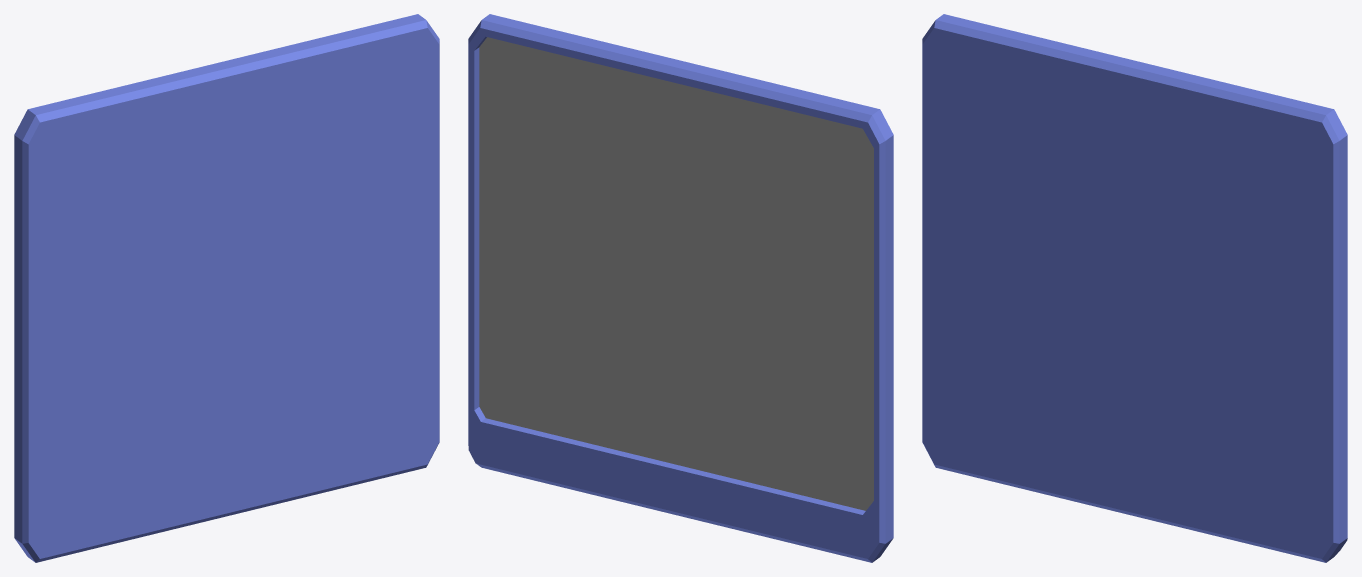
Rendered from Whiteboard_2.fbx.
3 renders of one model, left to right at view 1: azimuth 30°, elevation 25°; view 2: azimuth 150°, elevation 25°; view 3: azimuth 330°, elevation 25°, orthographic.
Visible parts, largest first — view 1: White_Board_2; view 2: White_Board_2; view 3: White_Board_2.
Boxes of the visible parts, left/top/right/bottom form: White_Board_2: left=14, top=14, right=439, bottom=562; White_Board_2: left=468, top=14, right=893, bottom=562; White_Board_2: left=922, top=14, right=1347, bottom=562.
Size of the model in its own units: 0.7127 by 0.7306 by 0.0405.
